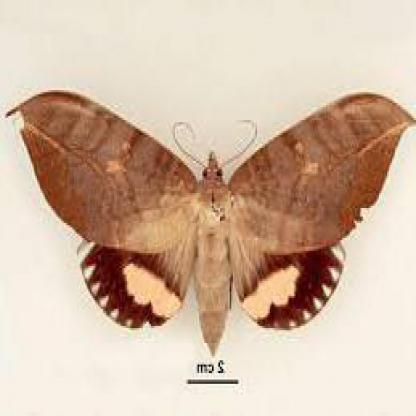fruit sucking moth: (8, 90, 414, 355)
